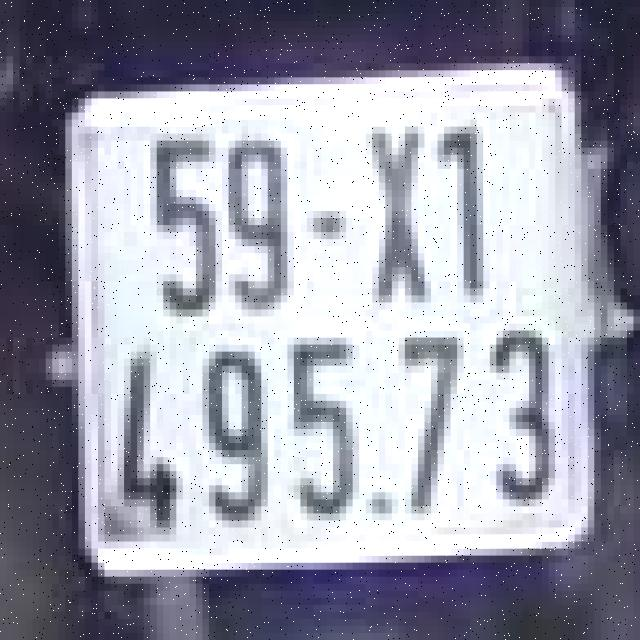1: (437, 116, 503, 313)
3: (490, 313, 568, 510)
4: (101, 341, 186, 531)
5: (137, 123, 229, 327), (278, 327, 362, 531)
7: (392, 324, 470, 520)
9: (196, 334, 274, 531), (229, 126, 307, 316)
X: (366, 102, 431, 320)
